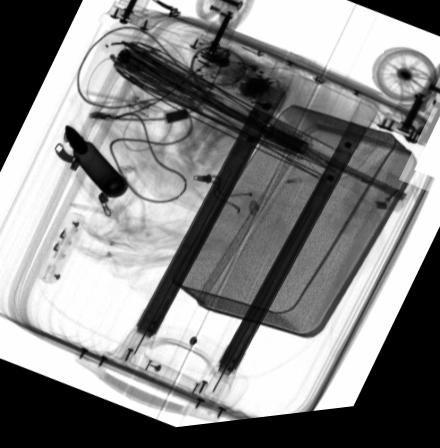Bullet: (63, 126, 127, 201)
